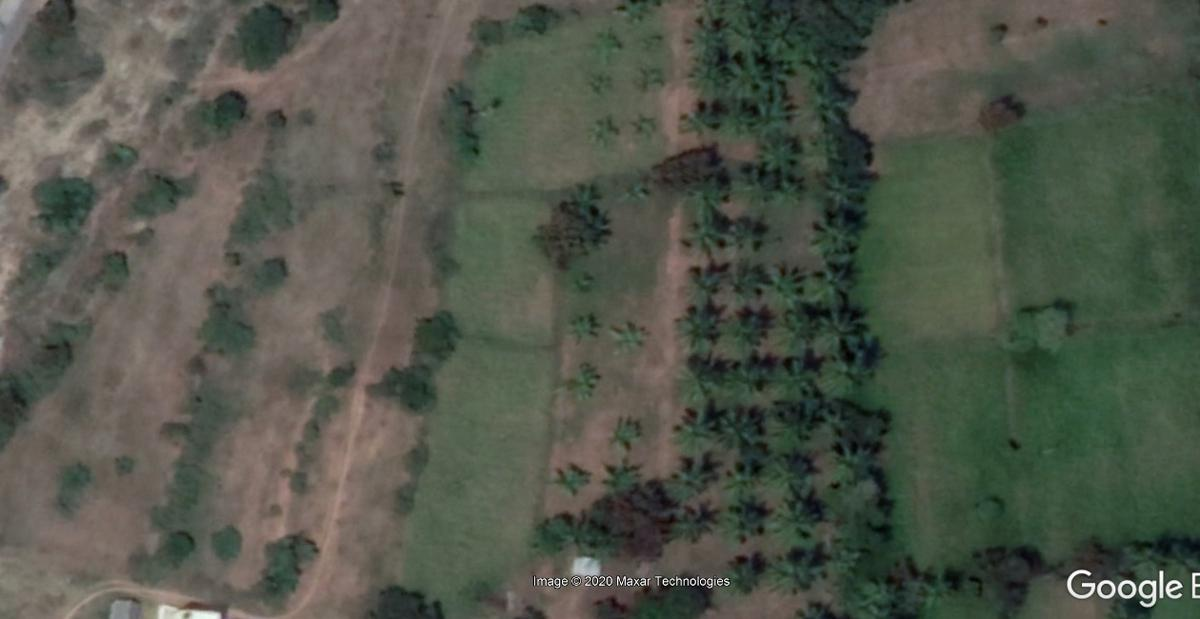coconut: (773, 540, 829, 595), (670, 402, 724, 448), (755, 12, 809, 58), (771, 396, 823, 443), (814, 213, 868, 258), (679, 172, 730, 219), (837, 329, 881, 380), (682, 205, 727, 253), (748, 92, 792, 137), (680, 300, 723, 344), (670, 453, 717, 493), (860, 572, 902, 616), (678, 100, 724, 140), (804, 84, 846, 127), (770, 255, 811, 299), (724, 399, 769, 439), (687, 13, 732, 53), (732, 302, 771, 348), (723, 550, 760, 598), (830, 439, 881, 473), (737, 353, 775, 398), (812, 258, 860, 293), (686, 259, 729, 298), (548, 458, 589, 498), (724, 499, 768, 536), (729, 213, 775, 248), (771, 449, 812, 488), (760, 130, 801, 169), (688, 58, 729, 97), (682, 349, 720, 390), (819, 167, 857, 208), (566, 182, 605, 220), (786, 499, 827, 535), (673, 508, 719, 540), (580, 113, 619, 150), (734, 262, 773, 299), (784, 303, 820, 343), (812, 299, 860, 329), (564, 308, 599, 348), (565, 363, 599, 404), (630, 68, 673, 99), (604, 465, 643, 498), (919, 570, 952, 607), (728, 452, 761, 486), (609, 419, 640, 454), (610, 317, 639, 353), (619, 172, 648, 205), (774, 174, 802, 208), (734, 179, 766, 208), (795, 598, 837, 618), (633, 115, 657, 141), (593, 67, 611, 97)
